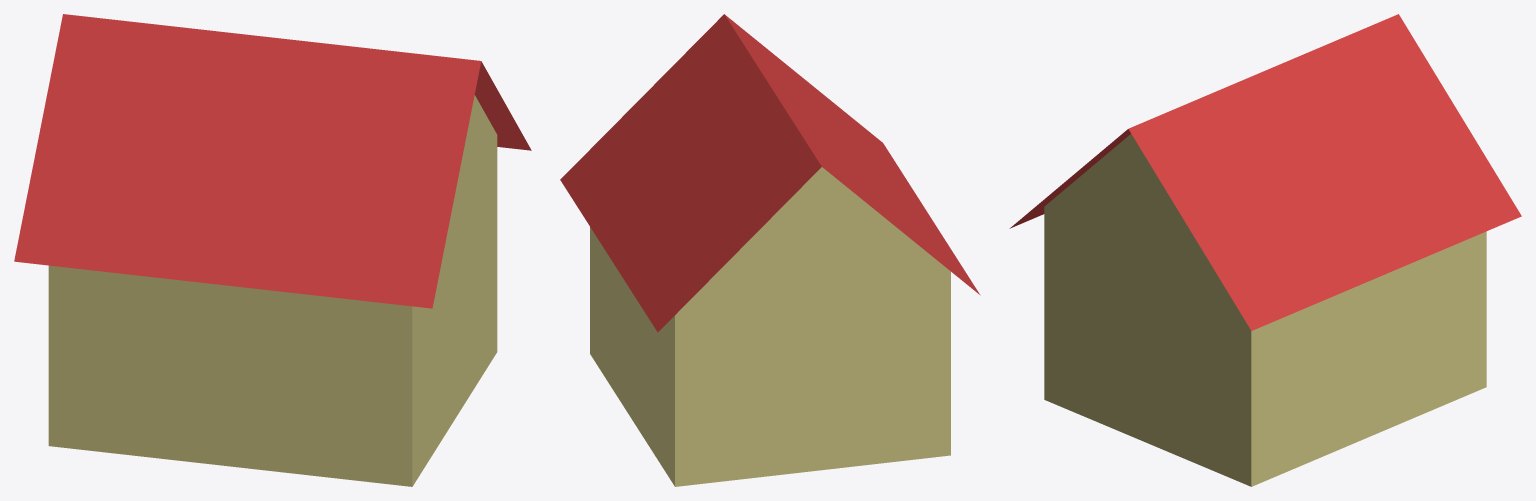
3 renders of one model, left to right at view 1: azimuth 30°, elevation 25°; view 2: azimuth 150°, elevation 25°; view 3: azimuth 270°, elevation 25°, orthographic. The views are drawn at different scales.
Bounding box in the file's own units: 15.38 × 15.38 × 10.63.
